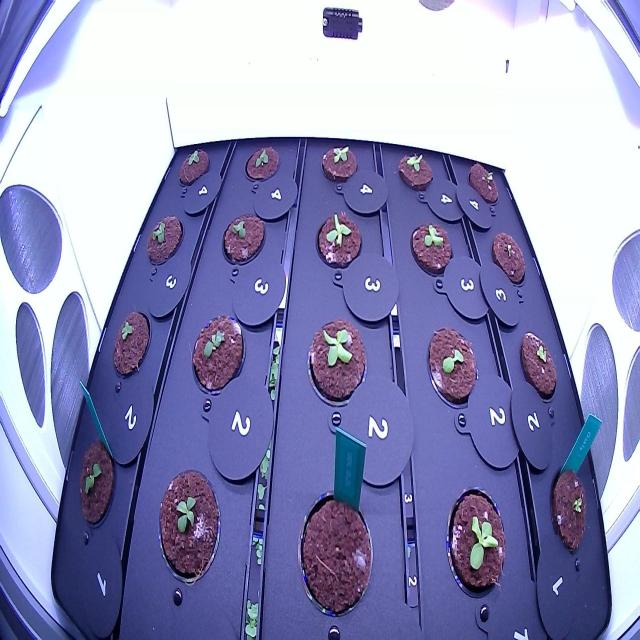germination: (419, 317, 482, 418), (188, 305, 250, 399), (73, 430, 121, 538), (546, 456, 593, 561), (216, 202, 270, 280), (109, 304, 158, 386), (514, 325, 562, 406), (484, 223, 529, 293), (239, 138, 285, 198), (144, 208, 186, 270), (460, 156, 502, 213), (174, 143, 214, 194)
pod: (289, 483, 377, 623)
young: (148, 457, 224, 595), (439, 477, 511, 613), (301, 310, 371, 417), (311, 203, 366, 282), (405, 213, 459, 287), (390, 141, 439, 202), (312, 134, 360, 189)
